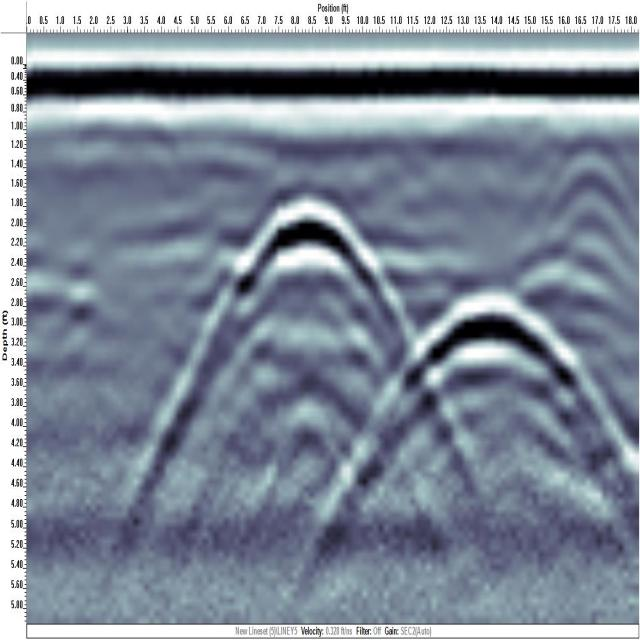hyperbola: (390, 266, 599, 454), (220, 176, 396, 326)
